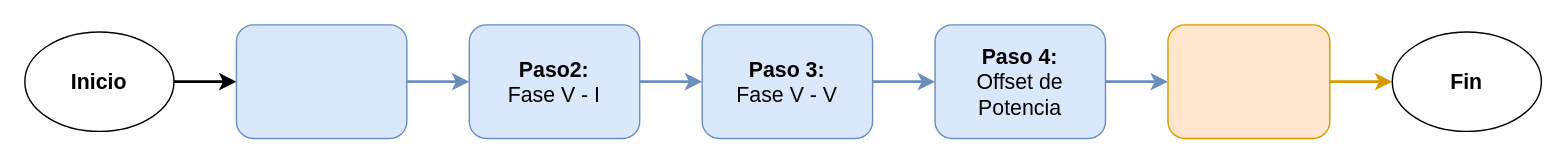
This 1566x163 diagram has some shape labels left out. Here are the shapes that lost their labels. From the top down, the centre of each, then its label:
At pixel 321 80: "Paso 1: Magnitudes (Ganancias RMS)".
At pixel 1248 80: "Validación, escritura de constantes y bloqueo".
